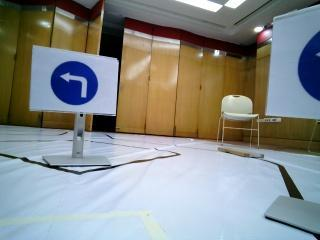left: (36, 49, 110, 112)
